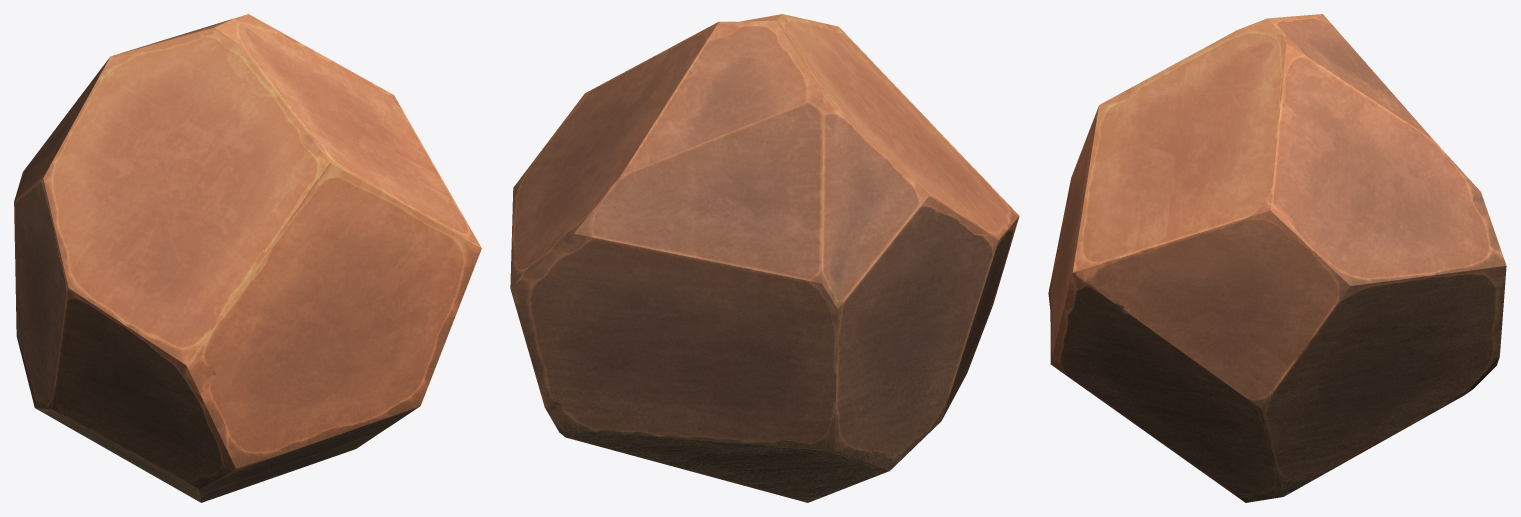
The model's file is rock.gltf.
3 views of the same model, side by side, from view 1: azimuth 30°, elevation 25°; view 2: azimuth 150°, elevation 25°; view 3: azimuth 270°, elevation 25° (orthographic). The views are drawn at different scales.
Parts seen in each view (by area): view 1: Object_24.001; view 2: Object_24.001; view 3: Object_24.001.
Part boxes in pixels (x1,y1,x2,y2): Object_24.001: (14,14,481,502); Object_24.001: (510,14,1019,502); Object_24.001: (1048,14,1506,502).
Size of the model in its own units: 1.12 by 1.27 by 1.19.
1 material, 1 textured.
